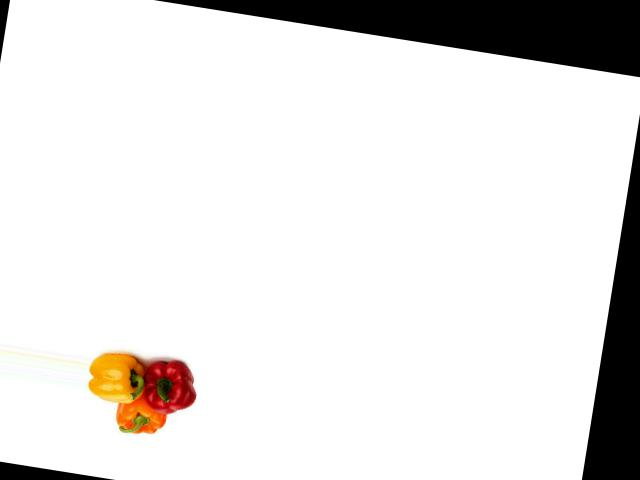bell_pepper: (84, 344, 146, 407)
